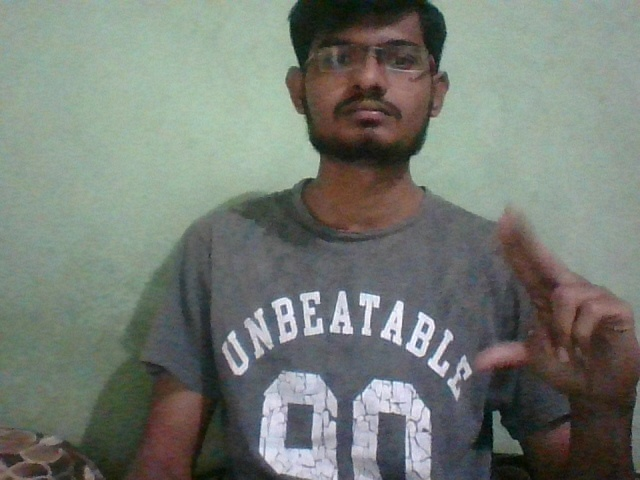no: (450, 192, 638, 393)
